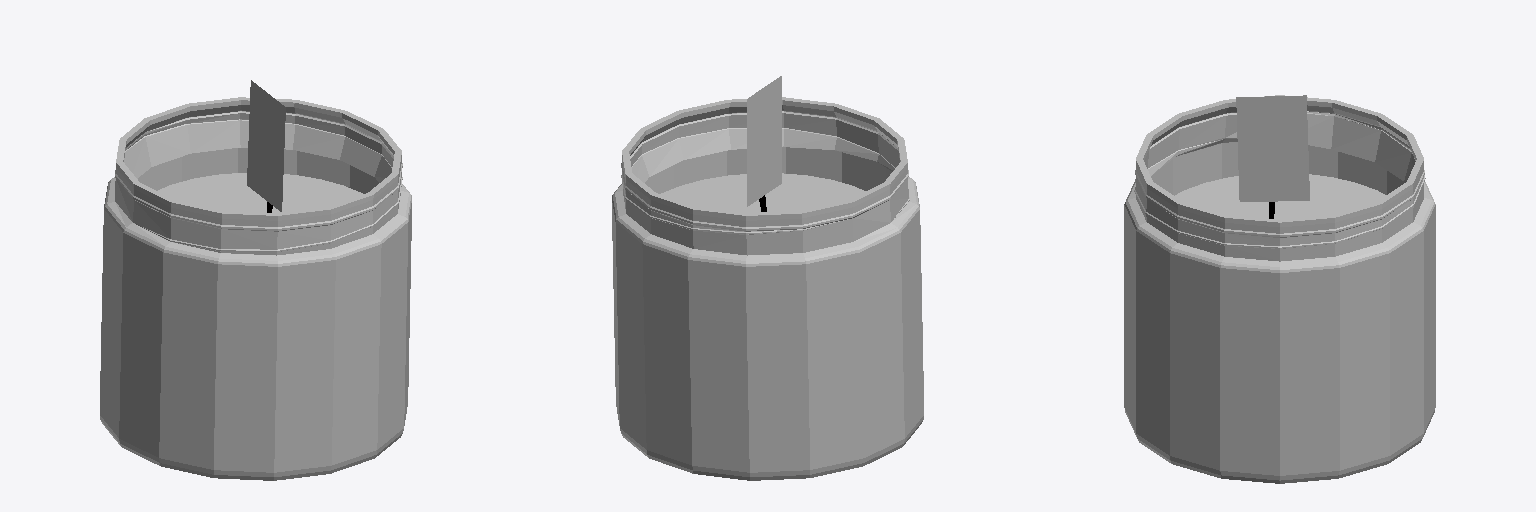
Rendered from glass2.obj.
3 renders of one model, left to right at view 1: azimuth 30°, elevation 25°; view 2: azimuth 150°, elevation 25°; view 3: azimuth 270°, elevation 25°, orthographic.
Parts seen in each view (by area): view 1: 円柱.010_円柱.011, 平面.002, 平面.001; view 2: 円柱.010_円柱.011, 平面.002, 平面.001; view 3: 円柱.010_円柱.011, 平面.001, 平面.002.
Part boxes in pixels (x1,y1,x2,y2): 円柱.010_円柱.011: (100, 97, 411, 480); 平面.002: (158, 173, 362, 212); 平面.001: (247, 80, 285, 211); 円柱.010_円柱.011: (612, 97, 923, 480); 平面.002: (661, 173, 865, 212); 平面.001: (747, 76, 781, 206); 円柱.010_円柱.011: (1124, 95, 1435, 483); 平面.001: (1236, 95, 1309, 201); 平面.002: (1175, 174, 1385, 218).
Size of the model in its own units: 1.38 by 1.58 by 1.36.